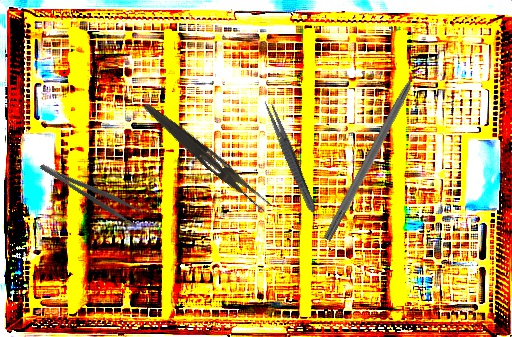Dressing Forceps: (138, 101, 275, 213), (37, 153, 146, 229), (260, 98, 320, 215)
Hook Surgical: (322, 55, 430, 243)
